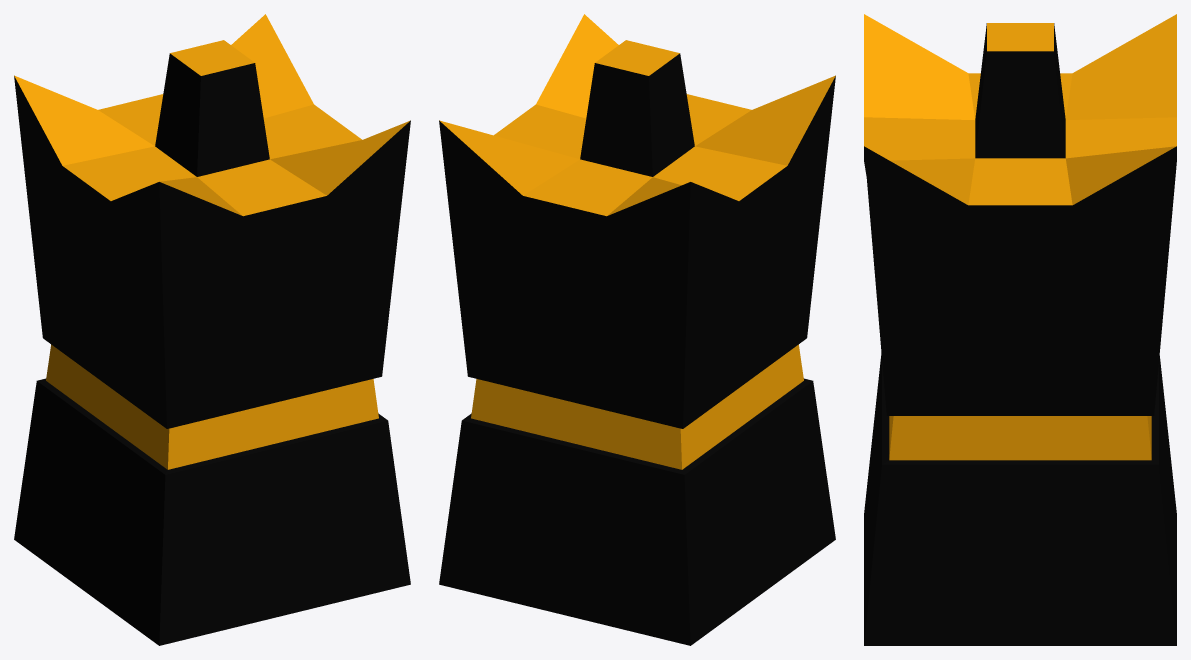
File: bottle2.fbx
3 renders of one model, left to right at view 1: azimuth 30°, elevation 25°; view 2: azimuth 150°, elevation 25°; view 3: azimuth 270°, elevation 25°, orthographic. The views are drawn at different scales.
Parts seen in each view (by area): view 1: bottle4.002; view 2: bottle4.002; view 3: bottle4.002.
Boxes of the visible parts, x1,y1,x2,y2 form: bottle4.002: (14,14,410,645); bottle4.002: (439,14,835,645); bottle4.002: (864,14,1176,645).
Size of the model in its own units: 0.0283 by 0.0542 by 0.0283.
